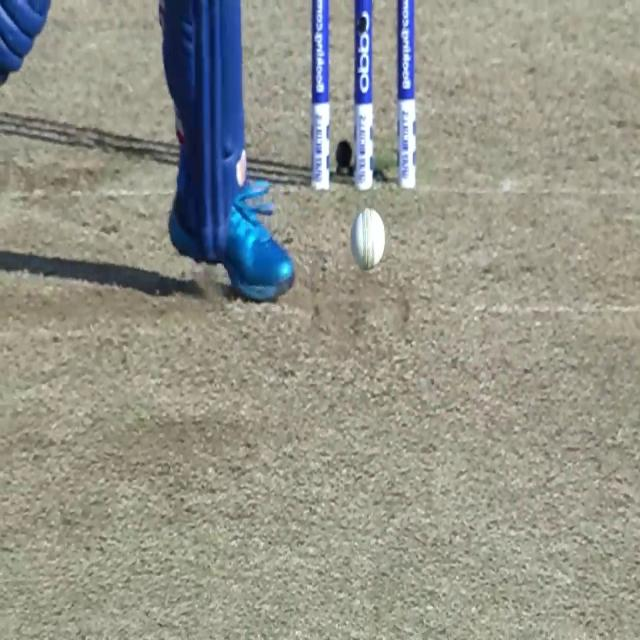ball: (350, 205, 386, 275)
